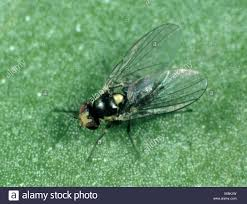Trifoli: (69, 41, 200, 155)
